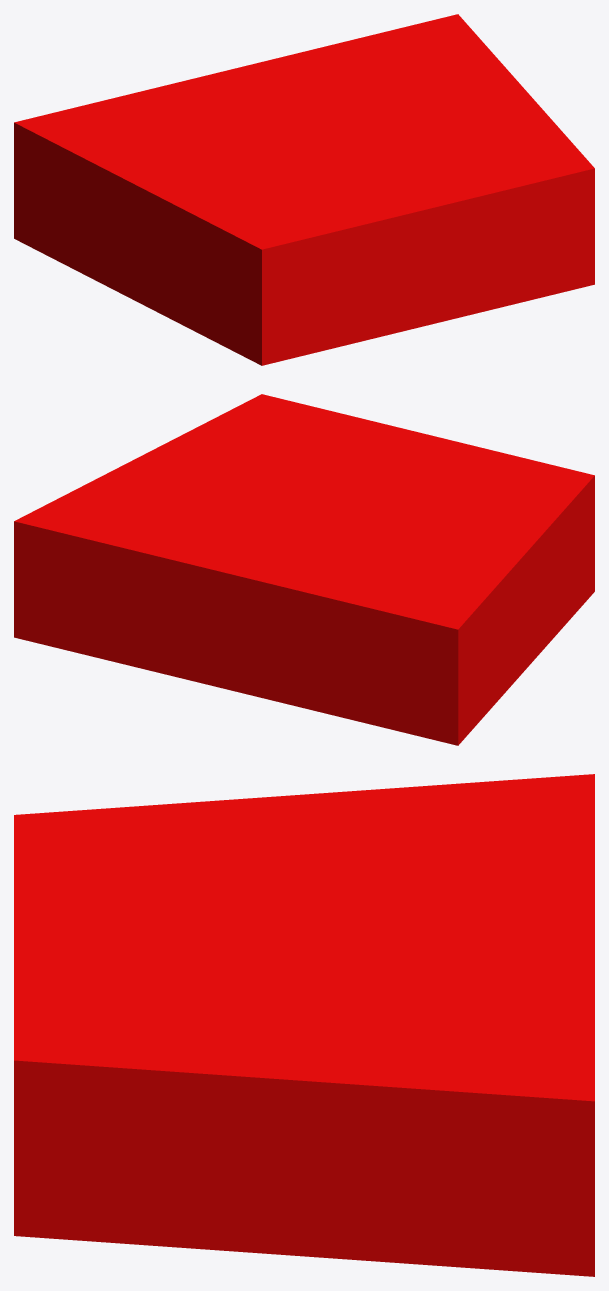
File: trapezium.dae
3 views of the same model, one above another, from view 1: azimuth 30°, elevation 25°; view 2: azimuth 150°, elevation 25°; view 3: azimuth 270°, elevation 25° (orthographic). The views are drawn at different scales.
Visible parts, largest first — view 1: Trapezium; view 2: Trapezium; view 3: Trapezium.
Part boxes in pixels (x1=…): Trapezium: x1=14, y1=14, x2=594, y2=365; Trapezium: x1=14, y1=394, x2=594, y2=745; Trapezium: x1=14, y1=774, x2=594, y2=1276.
Size of the model in its own units: 0.08 by 0.06 by 0.02.
